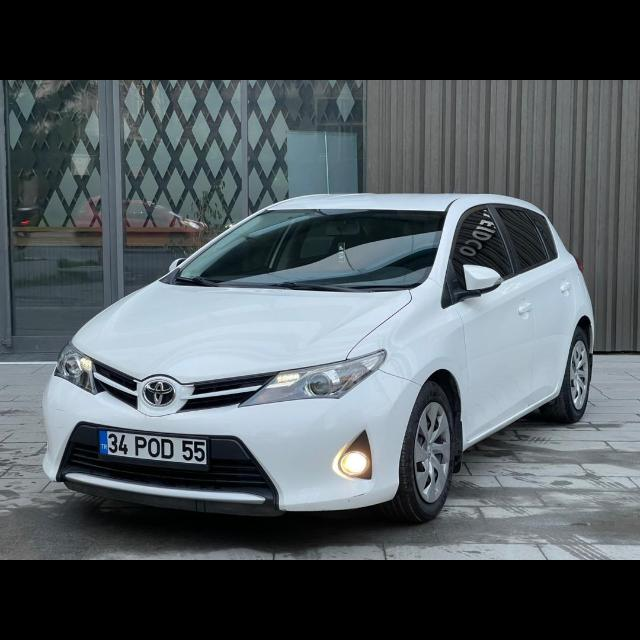Plaka: (100, 430, 210, 466)
